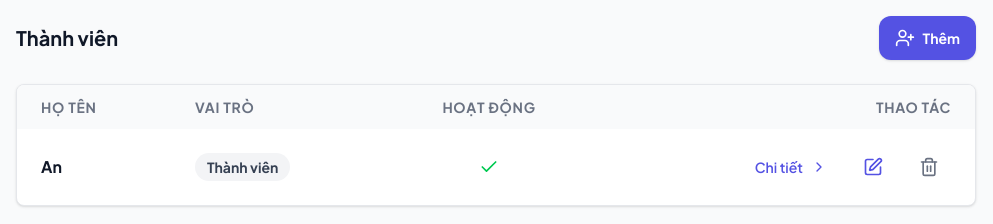
Test: MemberView (I/O matrix) › delete member: delete().eq(id) after confirm and the member is removed
Click the button named "Xóa An".
click(929, 167)  # box [907,145,951,189]
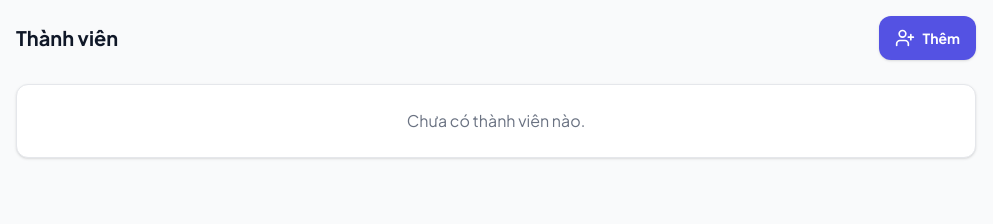
Now no rows are shown
